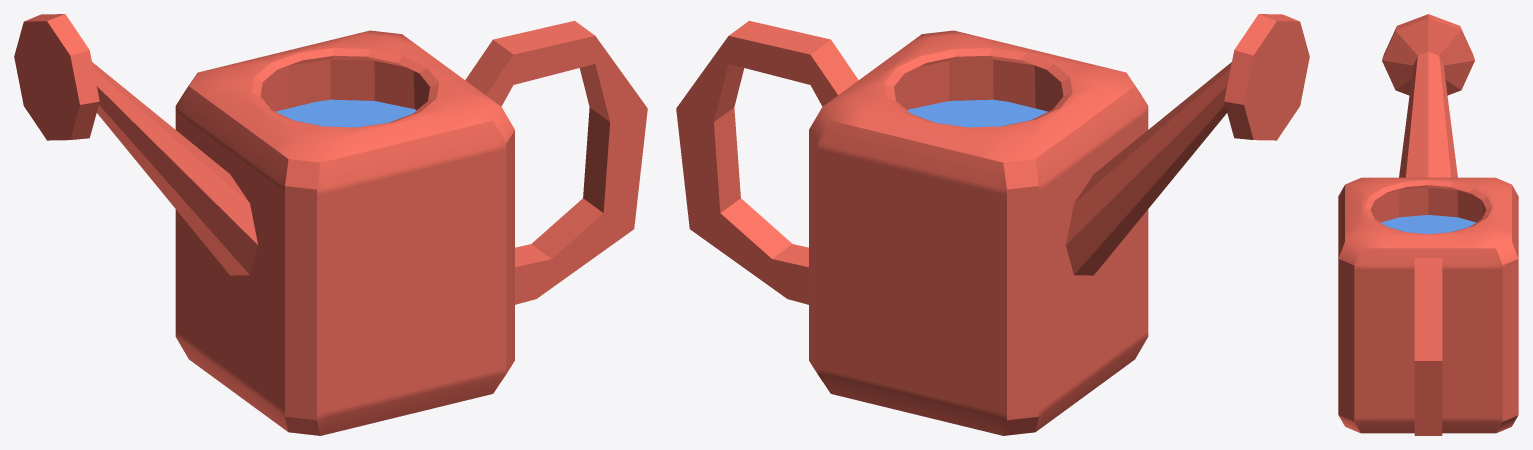
The model's file is wateringCan.fbx.
The picture shows the model from 3 angles, left to right: view 1: azimuth 30°, elevation 25°; view 2: azimuth 150°, elevation 25°; view 3: azimuth 270°, elevation 25°; orthographic projection. The views are drawn at different scales.
Visible parts, largest first — view 1: pCube3; view 2: pCube3; view 3: pCube3.
Boxes of the visible parts, box(x1,y1,x2,y2) form: pCube3: box(14, 14, 647, 435); pCube3: box(676, 14, 1309, 435); pCube3: box(1338, 14, 1518, 435).
Bounding box in the file's own units: 3.41 × 2.39 × 1.33.
2 materials, 2 textured.
